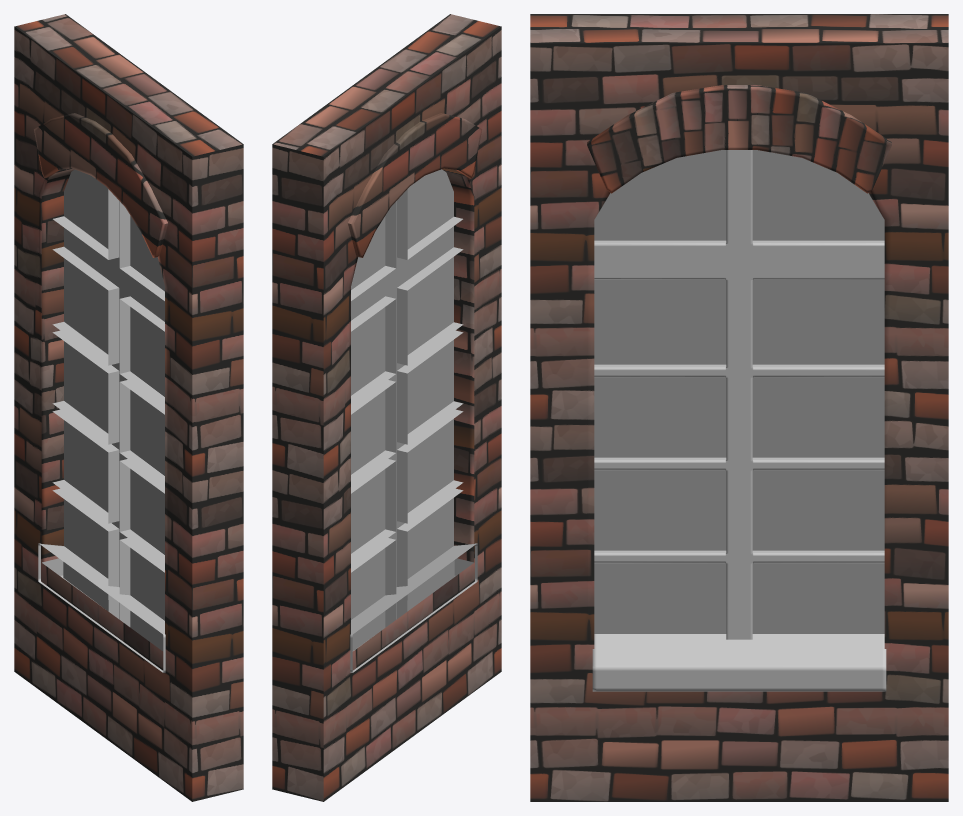
Rendered from SM_Wall_02.fbx.
3 renders of one model, left to right at view 1: azimuth 30°, elevation 25°; view 2: azimuth 150°, elevation 25°; view 3: azimuth 270°, elevation 25°, orthographic. The views are drawn at different scales.
Parts seen in each view (by area): view 1: Wall_Window_02; view 2: Wall_Window_02; view 3: Wall_Window_02.
Part boxes in pixels (x1,y1,x2,y2): Wall_Window_02: [14, 14, 243, 801]; Wall_Window_02: [272, 14, 501, 801]; Wall_Window_02: [530, 14, 948, 801].
Size of the model in its own units: 0.7329 by 6 by 3.
